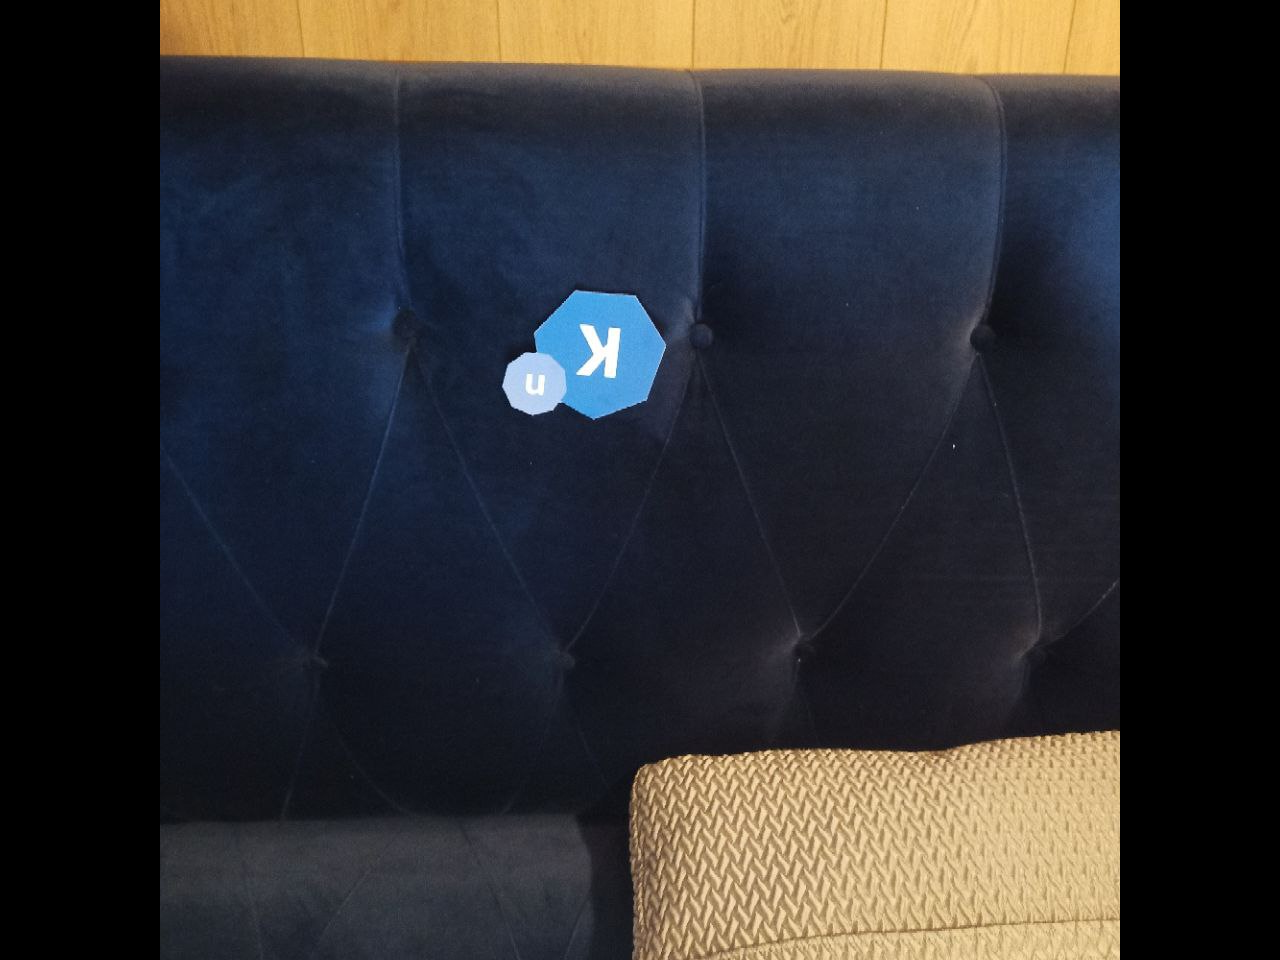knative: (500, 289, 668, 422)
